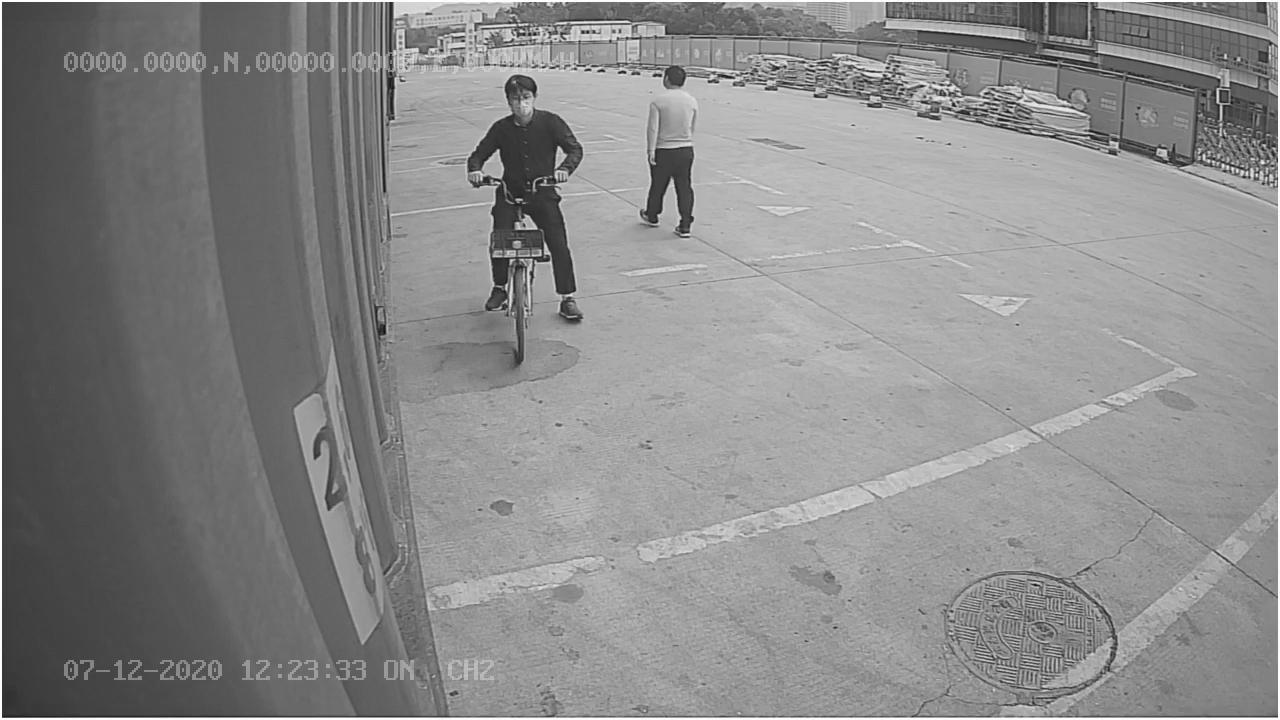person: (627, 62, 705, 241)
